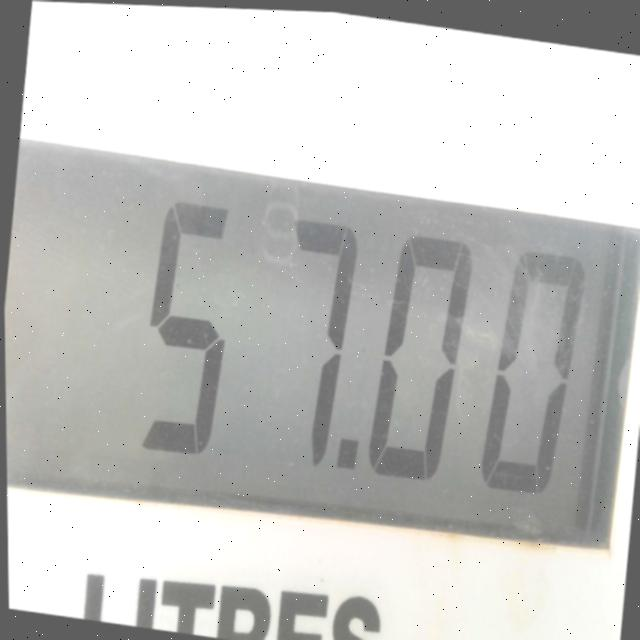.: (327, 418, 366, 491)
0: (464, 238, 605, 528), (357, 216, 487, 492)
5: (116, 182, 252, 479)
7: (239, 193, 362, 481)
